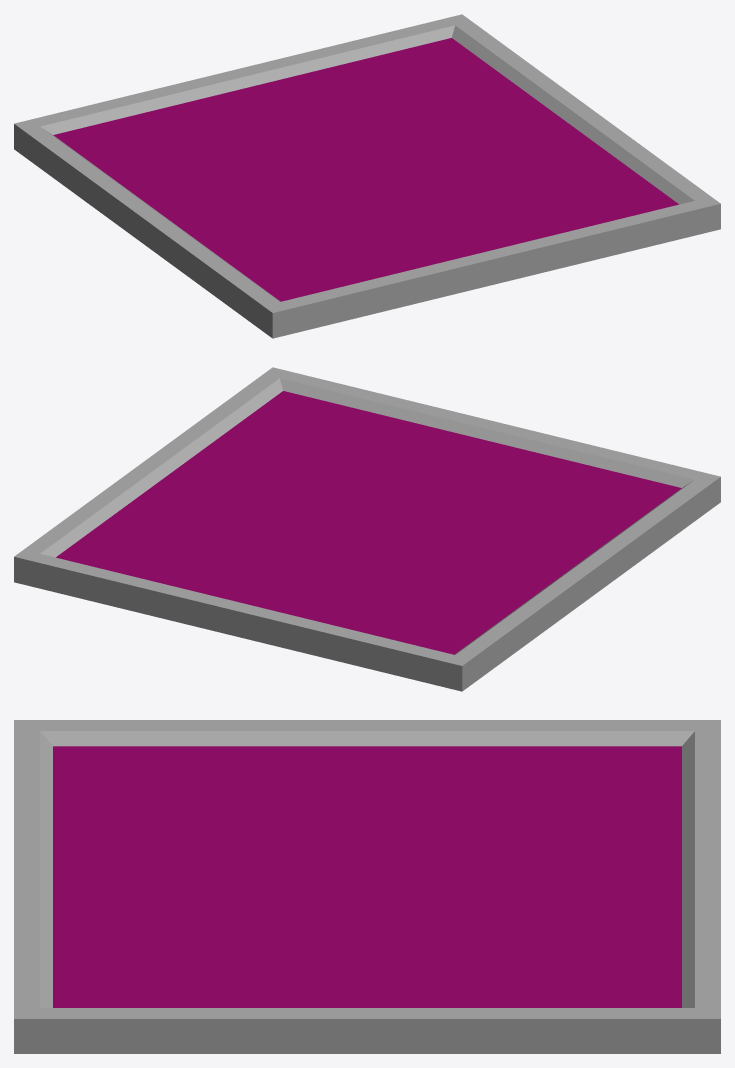
File: Chessboard_Model.fbx
The picture shows the model from 3 angles, top to bottom: view 1: azimuth 30°, elevation 25°; view 2: azimuth 150°, elevation 25°; view 3: azimuth 270°, elevation 25°; orthographic projection. The views are drawn at different scales.
Visible parts, largest first — view 1: pCube1; view 2: pCube1; view 3: pCube1.
Boxes of the visible parts, x1,y1,x2,y2 form: pCube1: (14,14,720,338); pCube1: (14,367,720,691); pCube1: (14,720,720,1053).
Size of the model in its own units: 25.75 by 1.41 by 25.75.
